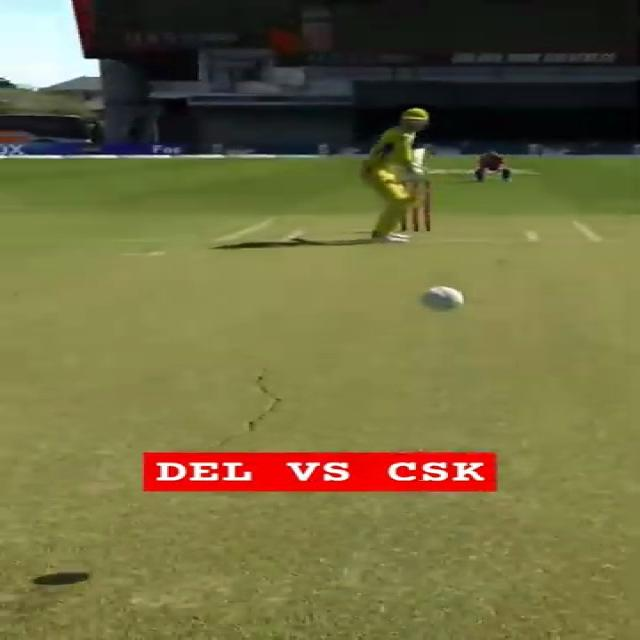ball: (418, 285, 466, 313)
